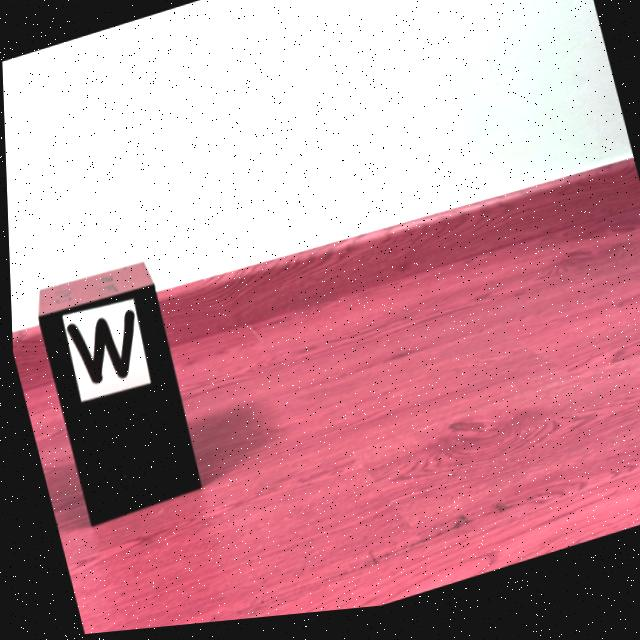W: (64, 312, 132, 385)
